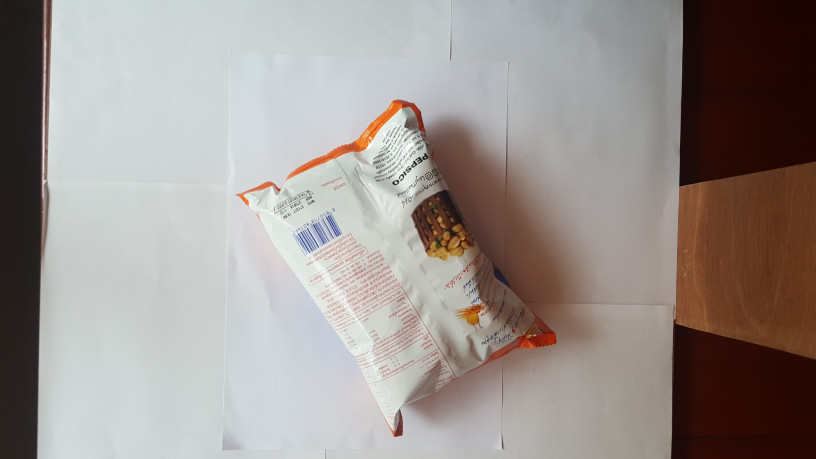lays-bbq: (232, 98, 565, 436)
